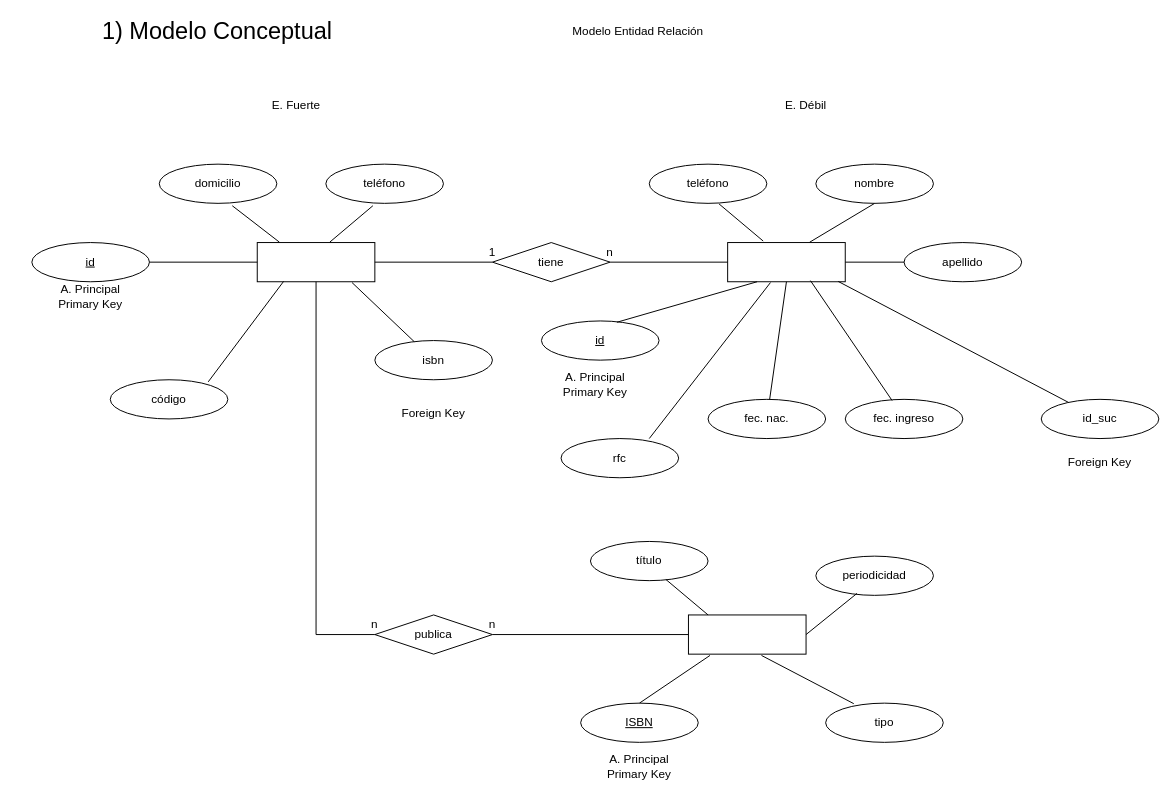
Image size: 1176x798. Some labels were removed from this diagram. Here are the shapes that lost their labels. From the top down, the centre of each, then its label:
At (x=315, y=262): "Sucursal".
At (x=786, y=262): "Empleado".
At (x=746, y=634): "Revista".
